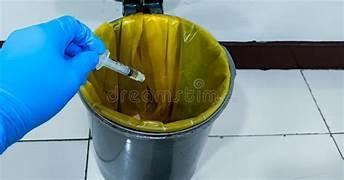Glove: (0, 16, 104, 153)
Syringe: (96, 50, 144, 81)
